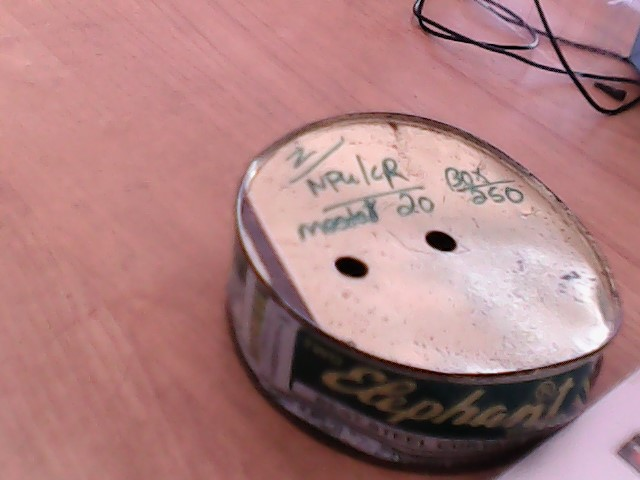Metal: (217, 123, 640, 431)
